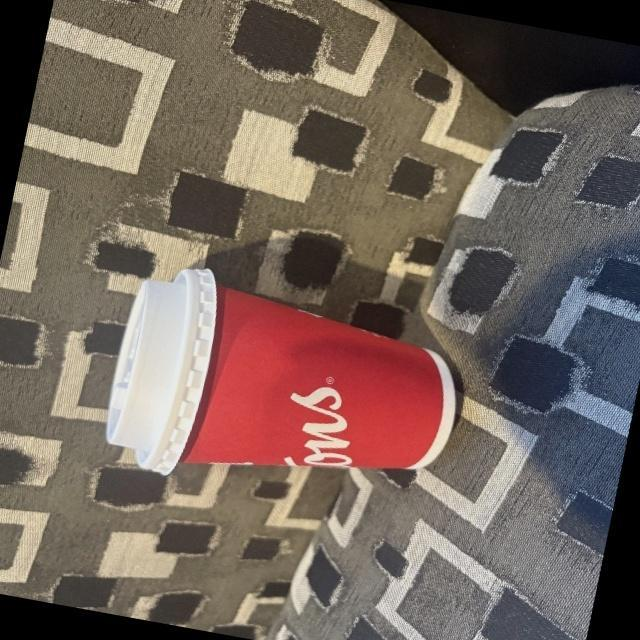timmies: (104, 264, 466, 479)
